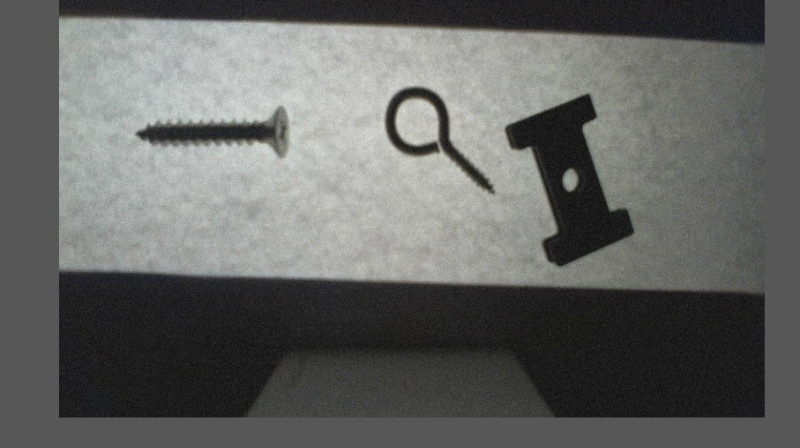O001: (385, 82, 497, 201)
O002: (504, 92, 636, 263)
S001: (131, 103, 298, 158)
